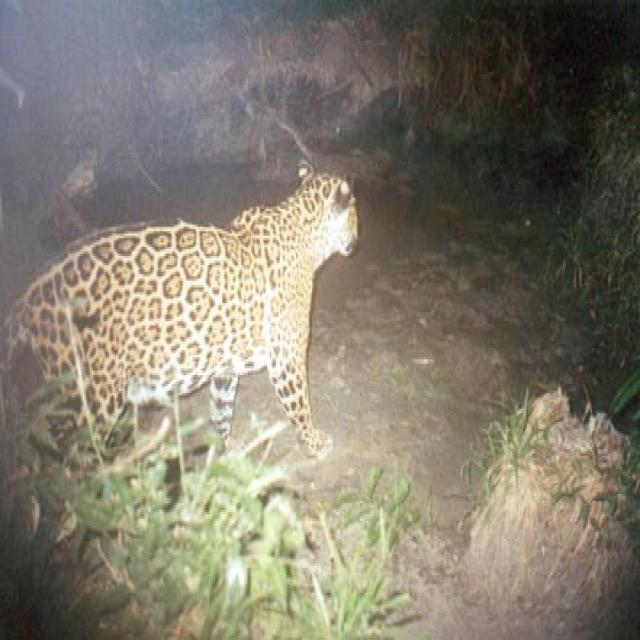Leopard: (0, 157, 360, 535)
